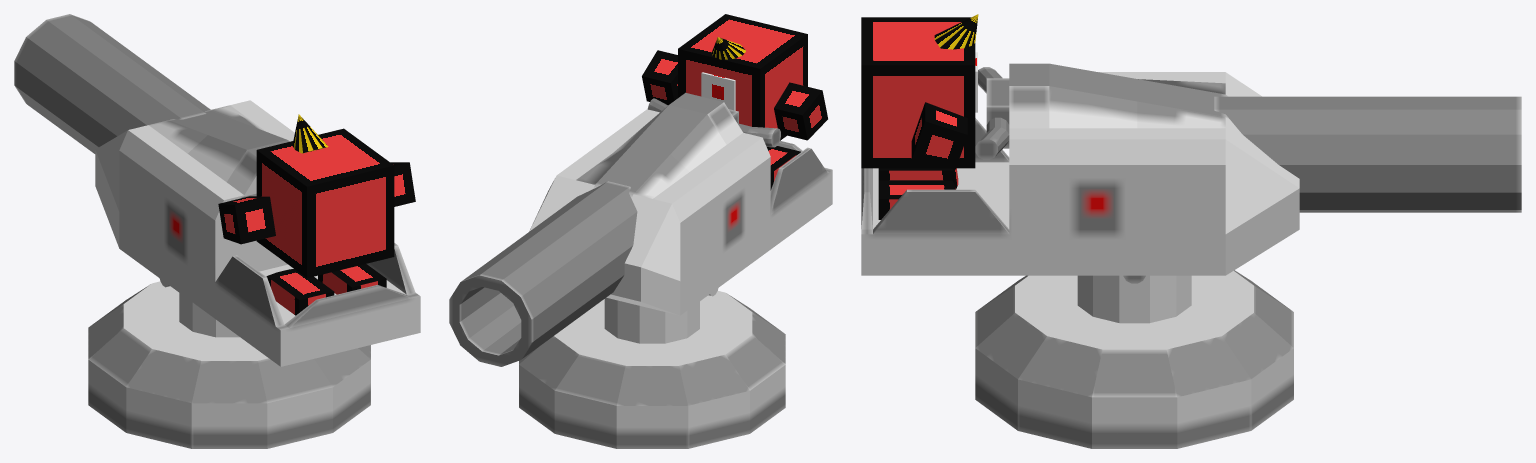
The model's file is akudo-fu+houdai.fbx.
3 views of the same model, side by side, from view 1: azimuth 30°, elevation 25°; view 2: azimuth 150°, elevation 25°; view 3: azimuth 270°, elevation 25° (orthographic). The views are drawn at different scales.
Parts seen in each view (by area): view 1: cuboid_6, cylinder, cuboid, cylinder_2, cuboid_4, cuboid_2, cuboid_1, cylinder_1, cuboid_3, cone; view 2: cuboid_6, cylinder, cylinder_2, cuboid, cylinder_1, cuboid_4, cuboid_3, cuboid_5, cylinder_4, cuboid_2, cone; view 3: cuboid_6, cylinder, cylinder_2, cuboid, cylinder_1, cuboid_3, cylinder_4, cuboid_1, cuboid_2, cuboid_7, cone.
Boxes of the visible parts, bbox=[...] form: cuboid_6: bbox=[95, 100, 420, 366]; cylinder: bbox=[88, 281, 370, 448]; cuboid: bbox=[256, 128, 394, 277]; cylinder_2: bbox=[14, 14, 210, 153]; cuboid_4: bbox=[218, 196, 275, 244]; cuboid_2: bbox=[266, 269, 334, 315]; cuboid_1: bbox=[318, 264, 386, 294]; cylinder_1: bbox=[179, 293, 239, 337]; cuboid_3: bbox=[390, 162, 415, 206]; cone: bbox=[292, 114, 328, 153]; cuboid_6: bbox=[529, 92, 832, 315]; cylinder: bbox=[519, 291, 785, 448]; cylinder_2: bbox=[449, 181, 637, 366]; cuboid: bbox=[678, 14, 807, 149]; cylinder_1: bbox=[604, 297, 699, 343]; cuboid_4: bbox=[774, 82, 827, 140]; cuboid_3: bbox=[642, 50, 677, 105]; cuboid_5: bbox=[701, 72, 735, 110]; cylinder_4: bbox=[647, 98, 780, 147]; cuboid_2: bbox=[768, 146, 800, 190]; cone: bbox=[711, 37, 745, 59]; cuboid_6: bbox=[861, 63, 1299, 275]; cylinder: bbox=[975, 270, 1293, 448]; cylinder_2: bbox=[1214, 96, 1521, 212]; cuboid: bbox=[861, 17, 975, 168]; cylinder_1: bbox=[1077, 275, 1191, 323]; cuboid_3: bbox=[911, 102, 967, 169]; cylinder_4: bbox=[975, 67, 1009, 159]; cuboid_1: bbox=[878, 180, 955, 219]; cuboid_2: bbox=[878, 168, 958, 189]; cuboid_7: bbox=[986, 78, 1009, 148]; cone: bbox=[934, 14, 978, 49].
Size of the model in its own units: 175 by 223 by 362.
Materials: 2 (2 with a texture image).
